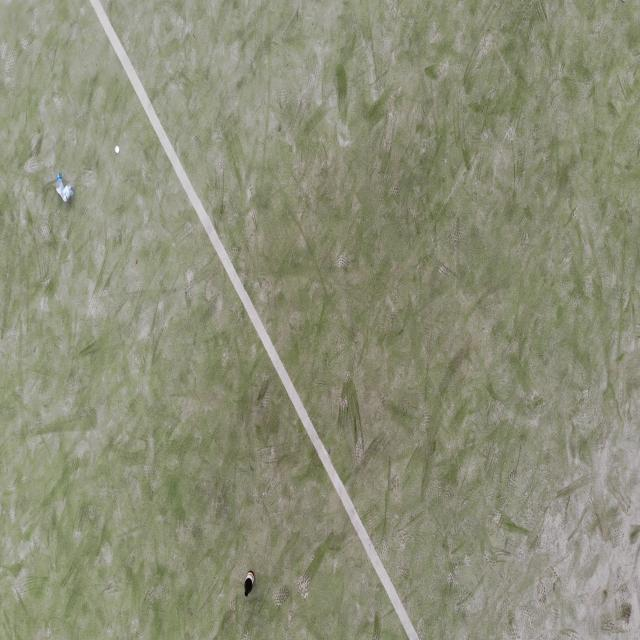rubbish: (56, 173, 74, 203), (244, 570, 254, 597), (115, 146, 119, 155)
